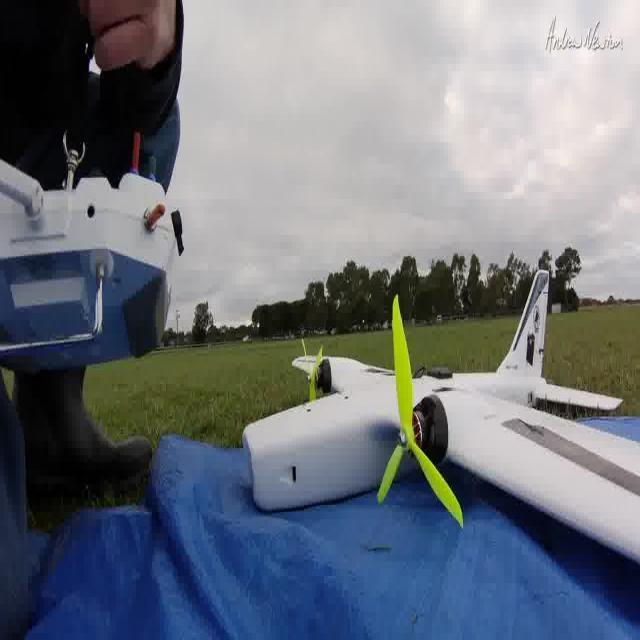iha: (241, 260, 640, 581)
